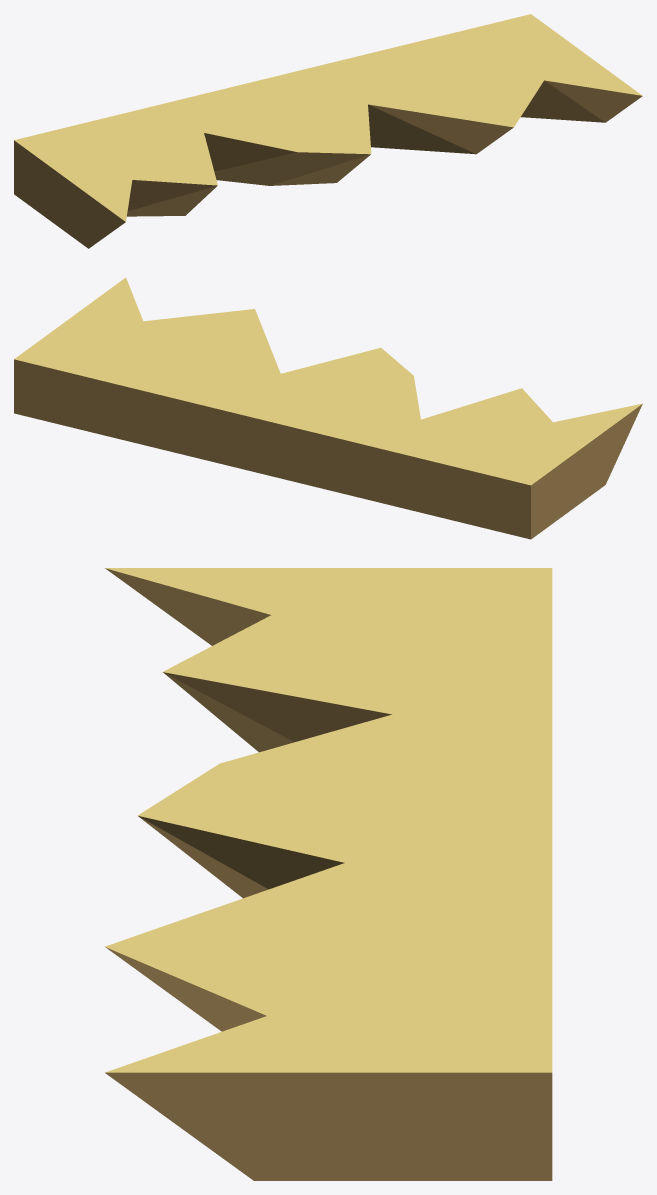
The model's file is Terrain_Modular_Tiles_Sand_Dirt_Cliff_Edge_Straight_Outer_02.fbx.
3 renders of one model, top to bottom at view 1: azimuth 30°, elevation 25°; view 2: azimuth 150°, elevation 25°; view 3: azimuth 270°, elevation 25°, orthographic. The views are drawn at different scales.
Parts seen in each view (by area): view 1: Terrain_Modular_Tiles_Sand_Dirt_Cliff_Edge_Straight_Outer_02; view 2: Terrain_Modular_Tiles_Sand_Dirt_Cliff_Edge_Straight_Outer_02; view 3: Terrain_Modular_Tiles_Sand_Dirt_Cliff_Edge_Straight_Outer_02.
Part boxes in pixels (left/top/right/bottom): Terrain_Modular_Tiles_Sand_Dirt_Cliff_Edge_Straight_Outer_02: left=14, top=14, right=642, bottom=248; Terrain_Modular_Tiles_Sand_Dirt_Cliff_Edge_Straight_Outer_02: left=14, top=277, right=642, bottom=539; Terrain_Modular_Tiles_Sand_Dirt_Cliff_Edge_Straight_Outer_02: left=105, top=568, right=552, bottom=1180.
Bounding box in the file's own units: 3000 × 300 × 1125.
